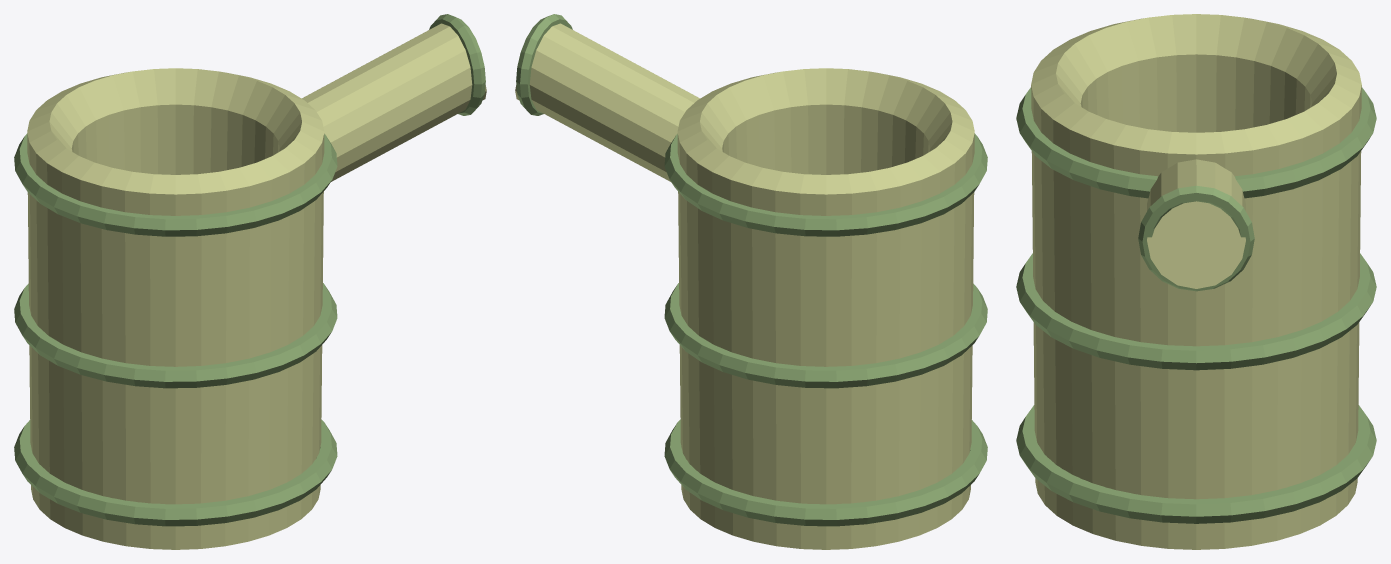
File: bamboo_takeshibuki.glb
3 views of the same model, side by side, from view 1: azimuth 30°, elevation 25°; view 2: azimuth 150°, elevation 25°; view 3: azimuth 270°, elevation 25° (orthographic). The views are drawn at different scales.
Visible parts, largest first — view 1: Cut bamboo water vessel, Bamboo projecting pourer, Visible bamboo joints, Visible bamboo joints.001, Visible bamboo joints.002, Pourer edge; view 2: Cut bamboo water vessel, Bamboo projecting pourer, Visible bamboo joints, Visible bamboo joints.001, Visible bamboo joints.002, Pourer edge; view 3: Cut bamboo water vessel, Visible bamboo joints, Visible bamboo joints.001, Bamboo projecting pourer, Visible bamboo joints.002, Pourer edge.
Part boxes in pixels (left/top/right/bottom): Cut bamboo water vessel: left=27, top=68, right=324, bottom=549; Bamboo projecting pourer: left=302, top=23, right=486, bottom=181; Visible bamboo joints: left=14, top=419, right=337, bottom=526; Visible bamboo joints.001: left=14, top=283, right=337, bottom=388; Visible bamboo joints.002: left=14, top=133, right=337, bottom=236; Pourer edge: left=429, top=14, right=485, bottom=115; Cut bamboo water vessel: left=677, top=68, right=974, bottom=549; Bamboo projecting pourer: left=515, top=23, right=699, bottom=181; Visible bamboo joints: left=664, top=419, right=987, bottom=526; Visible bamboo joints.001: left=664, top=283, right=987, bottom=388; Visible bamboo joints.002: left=664, top=133, right=987, bottom=236; Pourer edge: left=516, top=14, right=572, bottom=115; Cut bamboo water vessel: left=1031, top=14, right=1361, bottom=549; Visible bamboo joints: left=1016, top=405, right=1376, bottom=523; Visible bamboo joints.001: left=1016, top=253, right=1376, bottom=370; Bamboo projecting pourer: left=1147, top=159, right=1245, bottom=288; Visible bamboo joints.002: left=1016, top=87, right=1376, bottom=198; Pourer edge: left=1138, top=185, right=1254, bottom=291.
Bounding box in the file's own units: 1.95 × 1.76 × 1.25.
